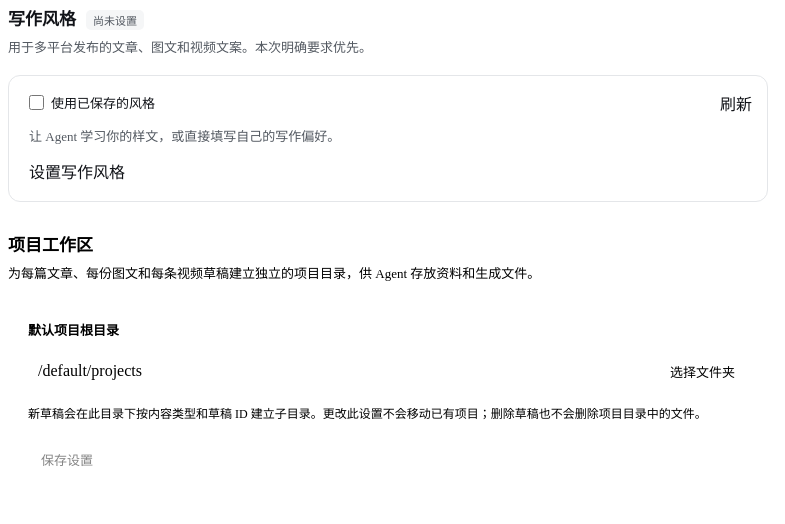
Test: Publisher project settings › keeps the old root visible when saving the chosen directory fails
Click the button "选择文件夹" at x=702, y=371, box [657, 348, 748, 394]
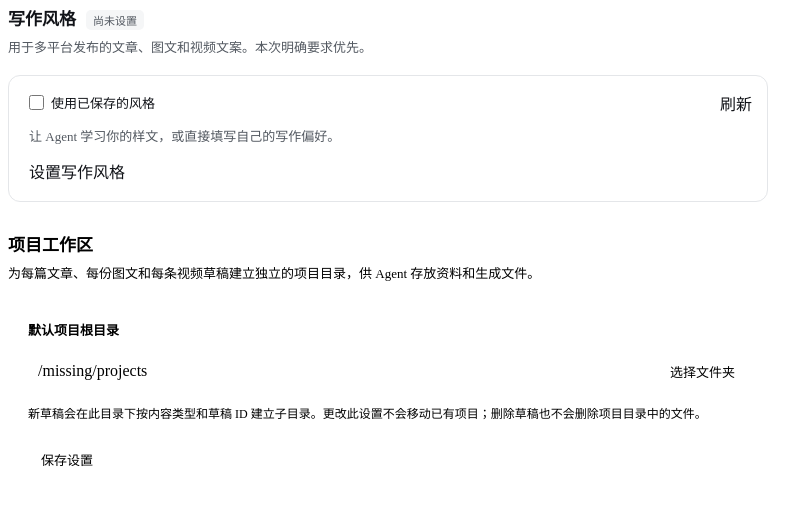
Click the button "保存设置" at x=67, y=459, box [28, 442, 106, 476]
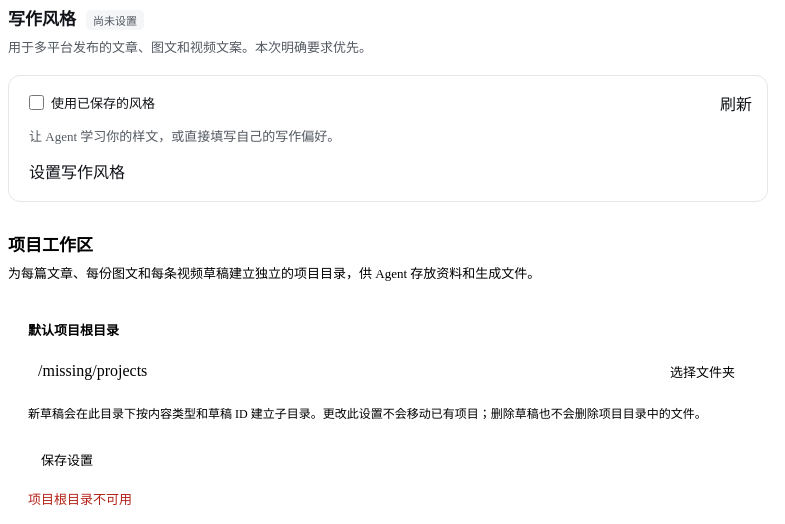
Expected: the field labelled "默认项目根目录" holds "/missing/projects", [28, 348, 649, 394]
Expected: the message "项目根目录不可用" is shown, [28, 492, 132, 507]
